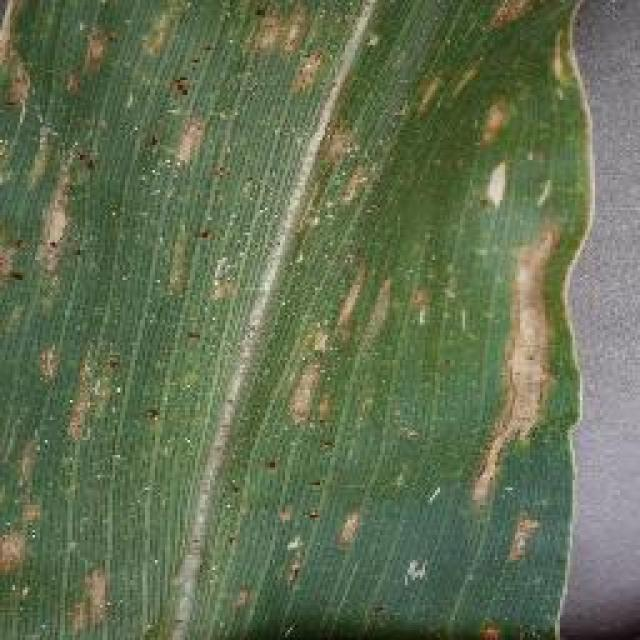Corn___Cercospora_leaf_spot Gray_leaf_spot: (59, 1, 582, 639)
